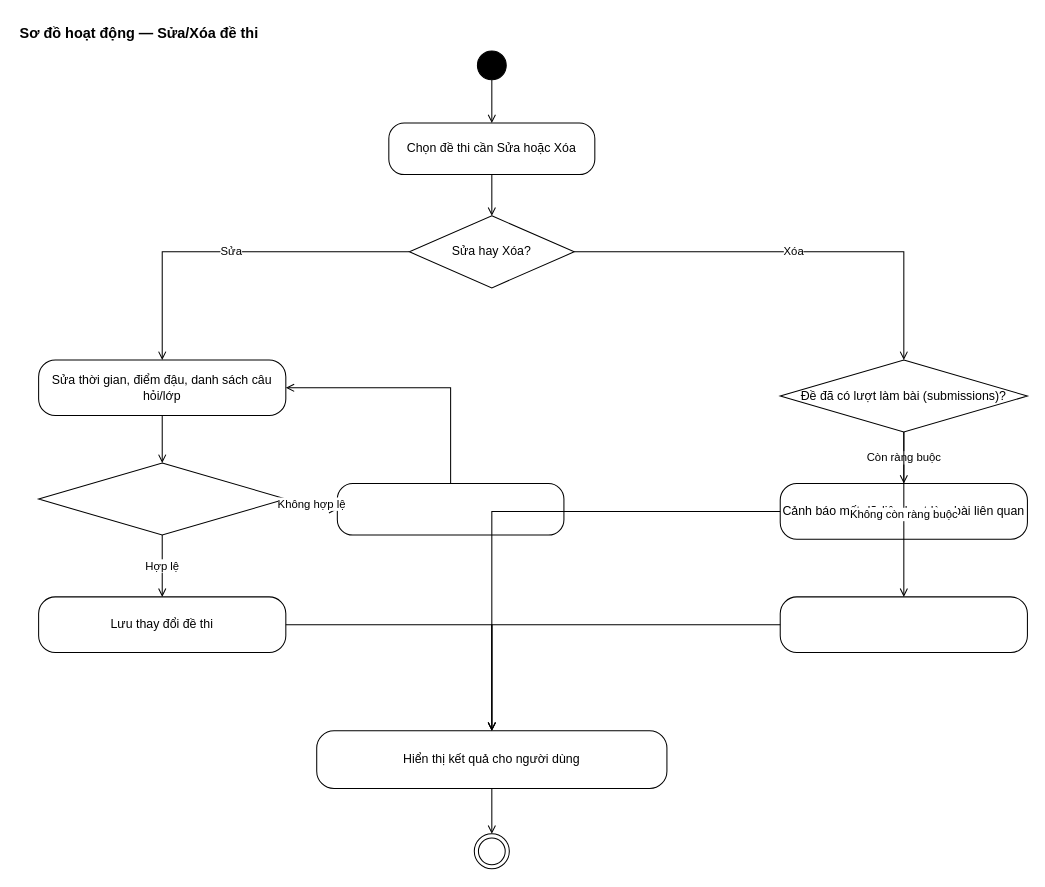
The diagram is 1045 pixels wide and 887 high, and some of its shapes have lost their labels. The centre of each missing label's shape, as x and y in pixels:
"Chặn lưu, báo câu hỏi chưa duyệt" goes at pixel 450 509.
"Toàn bộ câu hỏi đã được duyệt?" goes at pixel 162 498.
"Xóa đề thi và các liên kết câu hỏi/lớp" goes at pixel 903 624.
